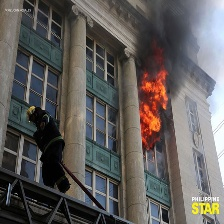fire: (133, 53, 171, 151)
smoke: (140, 1, 213, 64)
